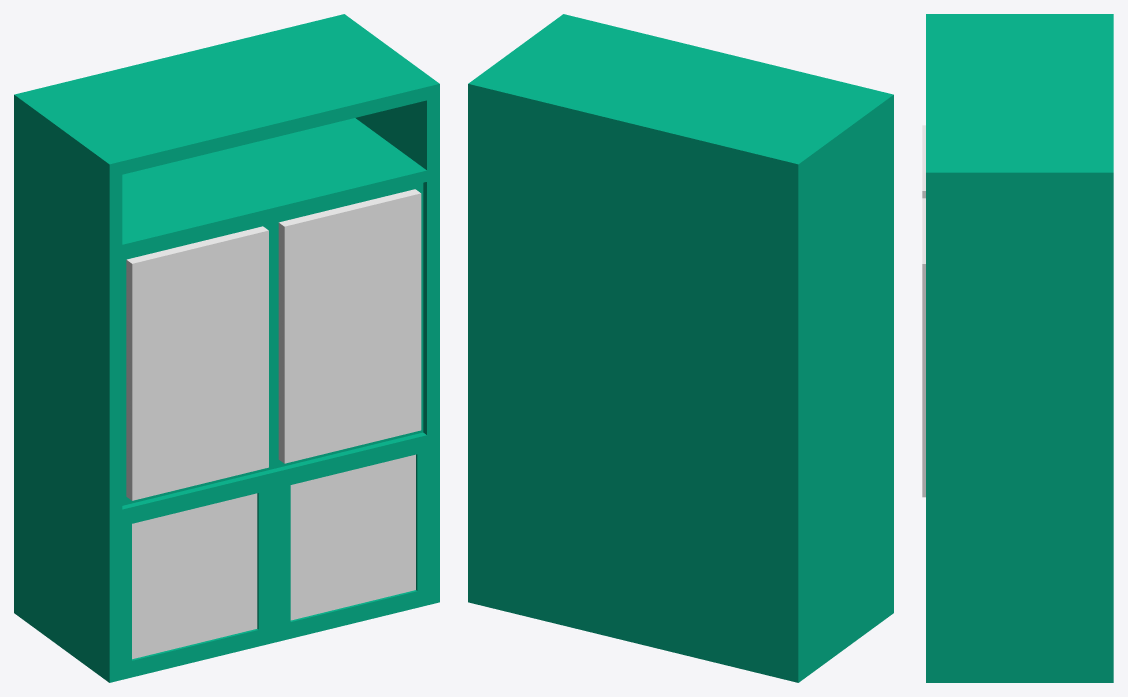
The model's file is CupBoard.fbx.
The picture shows the model from 3 angles, left to right: view 1: azimuth 30°, elevation 25°; view 2: azimuth 150°, elevation 25°; view 3: azimuth 270°, elevation 25°; orthographic projection.
Parts seen in each view (by area): view 1: Cube.001; view 2: Cube.001; view 3: Cube.001.
Boxes of the visible parts, x1=… form: Cube.001: x1=14, y1=14, x2=439, y2=682; Cube.001: x1=468, y1=14, x2=893, y2=682; Cube.001: x1=922, y1=14, x2=1113, y2=682.
Bounding box in the file's own units: 400 × 600 × 204.
